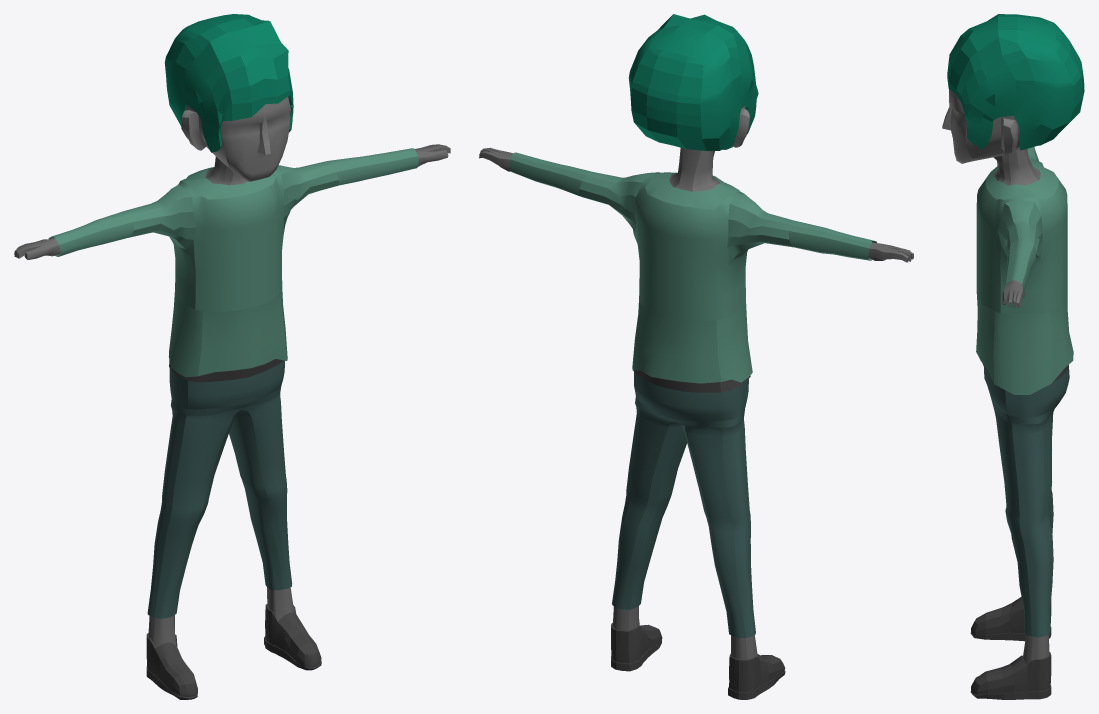
Rendered from mitKleidungMitBones.fbx.
The picture shows the model from 3 angles, left to right: view 1: azimuth 30°, elevation 25°; view 2: azimuth 150°, elevation 25°; view 3: azimuth 270°, elevation 25°; orthographic projection.
Visible parts, largest first — view 1: polySurface14, polySurface12, polySurface13, polySurface8; view 2: polySurface14, polySurface12, polySurface8, polySurface13; view 3: polySurface14, polySurface8, polySurface12, polySurface13.
Part boxes in pixels (x1,y1,x2,y2): polySurface14: (48, 148, 418, 377); polySurface12: (147, 359, 292, 618); polySurface13: (14, 96, 450, 699); polySurface8: (164, 14, 293, 152); polySurface14: (509, 152, 876, 383); polySurface12: (612, 370, 755, 637); polySurface8: (628, 14, 758, 150); polySurface13: (479, 106, 913, 699); polySurface14: (976, 147, 1073, 394); polySurface8: (947, 14, 1084, 150); polySurface12: (982, 363, 1069, 637); polySurface13: (942, 89, 1051, 699).
Size of the model in its own units: 4.8 by 6.86 by 1.38.
Materials: 7 (1 with a texture image).
